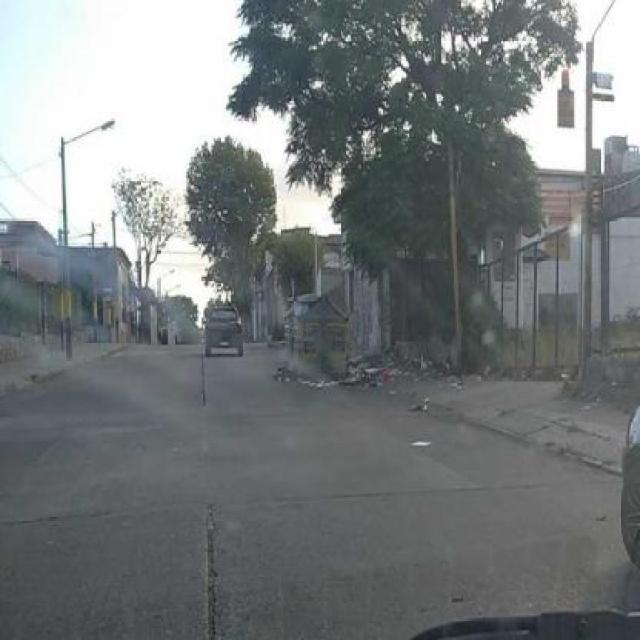garbage: (283, 297, 358, 370), (274, 363, 447, 388), (405, 382, 439, 422), (413, 439, 436, 454)
